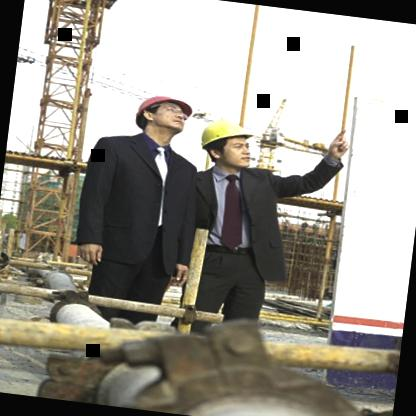helmet: (180, 104, 268, 174), (124, 82, 210, 151)
